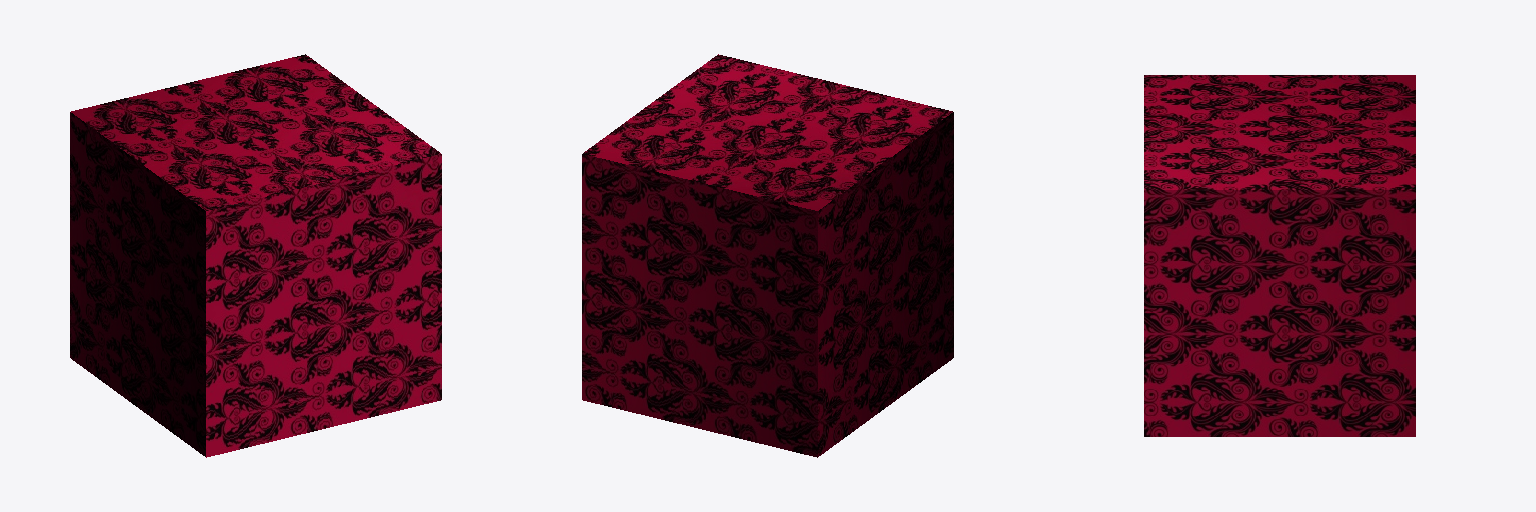
3 renders of one model, left to right at view 1: azimuth 30°, elevation 25°; view 2: azimuth 150°, elevation 25°; view 3: azimuth 270°, elevation 25°, orthographic.
Visible parts, largest first — view 1: Cube; view 2: Cube; view 3: Cube.
Part boxes in pixels (left/top/right/bottom): Cube: left=70, top=54, right=441, bottom=457; Cube: left=582, top=54, right=953, bottom=457; Cube: left=1144, top=75, right=1415, bottom=436.
Bounding box in the file's own units: 2 × 2 × 2.
Materials: 1 (1 with a texture image).